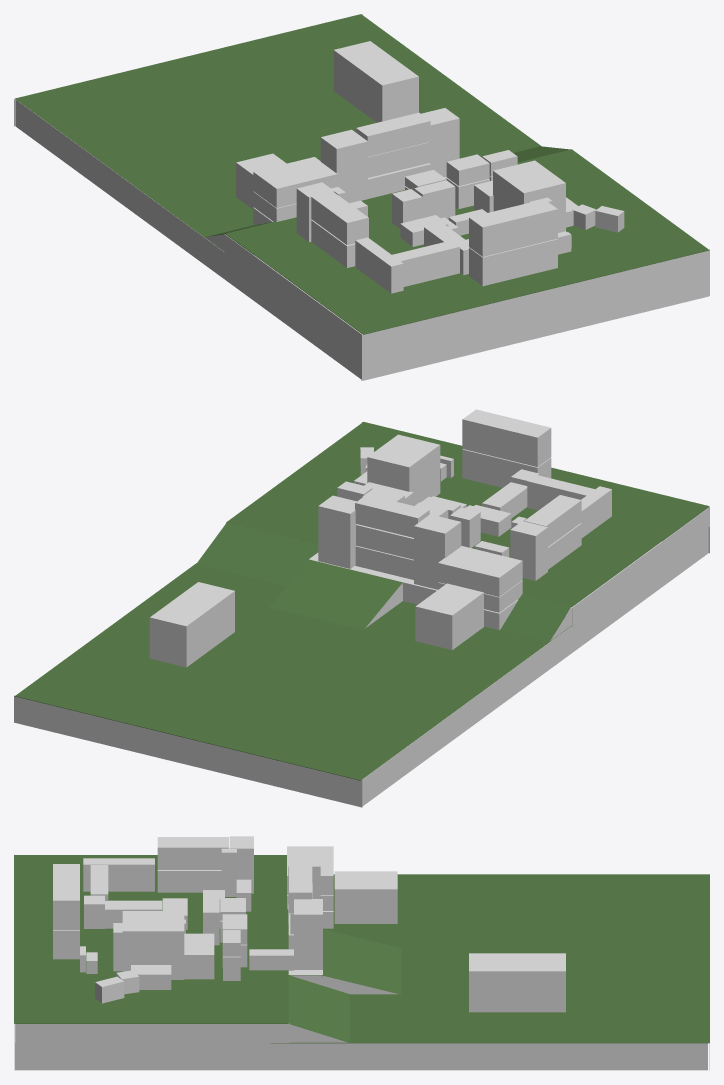
Rendered from map.gltf.
3 views of the same model, one above another, from view 1: azimuth 30°, elevation 25°; view 2: azimuth 150°, elevation 25°; view 3: azimuth 270°, elevation 25° (orthographic).
Visible parts, largest first — view 1: Ground.002, Ground.001, Ground.017, Ground.014, Hodge HSC, Mckinnon MK11 mk12 mk13 mk14 mk15, Gym GYM11 GYM03 GYM02, Ground, MckinnonBottom MK1 MK2 MK3 MK4 MK5, CPACTop C11 GR2 GR1 AR2 AR3 AR1, GRooms 14 13 02 04 03, AitkenTop 20 21 22 (+16 smaller); view 2: Ground.002, Ground.001, Ground.014, Ground.016, Ground.004, Hodge HSC, Ground.005, Mckinnon MK11 mk12 mk13 mk14 mk15, Gym GYM11 GYM03 GYM02, Hall, CPACTop C11 GR2 GR1 AR2 AR3 AR1, Ground (+16 smaller); view 3: Ground.002, Ground.001, Ground.015, Hodge HSC, Ground.018, Ground.004, Gym GYM11 GYM03 GYM02, Hall, Ground.005, PrepUpstairs P14 P13 P12 P11, ScienceBuilding SL11 SL12 SL2 SL1, PrepBlock1 M02 M03 (+27 smaller).
Boxes of the visible parts, x1=… form: Ground.002: x1=15, y1=14, x2=541, y2=254; Ground.001: x1=226, y1=149, x2=709, y2=334; Ground.017: x1=361, y1=249, x2=709, y2=380; Ground.014: x1=15, y1=99, x2=361, y2=379; Hodge HSC: x1=333, y1=41, x2=418, y2=122; Mckinnon MK11 mk12 mk13 mk14 mk15: x1=469, y1=199, x2=557, y2=256; Gym GYM11 GYM03 GYM02: x1=493, y1=160, x2=565, y2=232; Ground: x1=224, y1=234, x2=361, y2=353; MckinnonBottom MK1 MK2 MK3 MK4 MK5: x1=469, y1=239, x2=557, y2=286; CPACTop C11 GR2 GR1 AR2 AR3 AR1: x1=253, y1=157, x2=337, y2=207; GRooms 14 13 02 04 03: x1=320, y1=129, x2=367, y2=203; AitkenTop 20 21 22: x1=356, y1=112, x2=430, y2=156; Ground.002: x1=15, y1=563, x2=571, y2=780; Ground.001: x1=226, y1=422, x2=708, y2=606; Ground.014: x1=362, y1=527, x2=708, y2=805; Ground.016: x1=14, y1=695, x2=362, y2=807; Ground.004: x1=269, y1=559, x2=402, y2=630; Hodge HSC: x1=149, y1=582, x2=234, y2=667; Ground.005: x1=196, y1=522, x2=318, y2=586; Mckinnon MK11 mk12 mk13 mk14 mk15: x1=462, y1=409, x2=551, y2=466; Gym GYM11 GYM03 GYM02: x1=367, y1=434, x2=440, y2=505; Hall: x1=415, y1=583, x2=483, y2=649; CPACTop C11 GR2 GR1 AR2 AR3 AR1: x1=438, y1=546, x2=522, y2=596; Ground: x1=572, y1=507, x2=709, y2=626; Ground.002: x1=271, y1=874, x2=709, y2=1043; Ground.001: x1=14, y1=855, x2=288, y2=1023; Ground.015: x1=15, y1=1043, x2=707, y2=1069; Hodge HSC: x1=469, y1=953, x2=565, y2=1012; Ground.018: x1=15, y1=1023, x2=289, y2=1042; Ground.004: x1=323, y1=929, x2=401, y2=993; Gym GYM11 GYM03 GYM02: x1=122, y1=911, x2=184, y2=979; Hall: x1=334, y1=871, x2=397, y2=923; Ground.005: x1=288, y1=975, x2=349, y2=1042; PrepUpstairs P14 P13 P12 P11: x1=157, y1=837, x2=228, y2=869; ScienceBuilding SL11 SL12 SL2 SL1: x1=294, y1=899, x2=322, y2=969; PrepBlock1 M02 M03: x1=83, y1=858, x2=154, y2=891.
Bounding box in the file's own units: 183 × 57.41 × 317.
